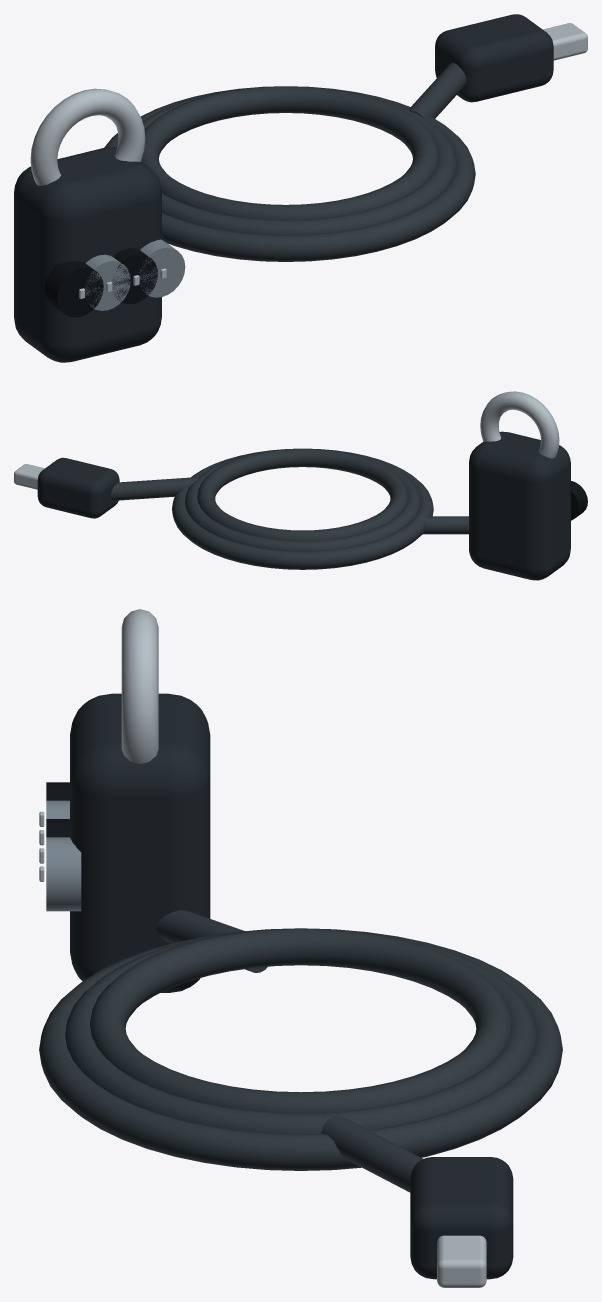
The model's file is security-cable-lock.glb.
3 renders of one model, top to bottom at view 1: azimuth 30°, elevation 25°; view 2: azimuth 150°, elevation 25°; view 3: azimuth 270°, elevation 25°, orthographic. The views are drawn at different scales.
Visible parts, largest first — view 1: Premium equipment security cable lock, Combination lock body, Combination dial (×4), Kensington lock head, Security slot blade; view 2: Premium equipment security cable lock, Combination lock body, Kensington lock head, Security slot blade, Combination dial; view 3: Premium equipment security cable lock, Combination lock body, Kensington lock head, Security slot blade, Combination dial.
Part boxes in pixels (x1=…): Premium equipment security cable lock: x1=30, y1=63, x2=475, y2=299; Combination lock body: x1=14, y1=147, x2=161, y2=362; Combination dial (×4): x1=44, y1=239, x2=185, y2=317; Kensington lock head: x1=435, y1=14, x2=553, y2=102; Security slot blade: x1=543, y1=23, x2=587, y2=60; Premium equipment security cable lock: x1=111, y1=391, x2=559, y2=569; Combination lock body: x1=469, y1=431, x2=570, y2=580; Kensington lock head: x1=37, y1=457, x2=119, y2=518; Security slot blade: x1=14, y1=464, x2=44, y2=489; Combination dial: x1=571, y1=481, x2=587, y2=520; Premium equipment security cable lock: x1=39, y1=609, x2=562, y2=1192; Combination lock body: x1=70, y1=693, x2=210, y2=992; Kensington lock head: x1=410, y1=1157, x2=513, y2=1279; Security slot blade: x1=437, y1=1235, x2=486, y2=1287; Combination dial: x1=46, y1=837, x2=81, y2=911.
Bounding box in the file's own units: 2.61 × 0.935 × 1.27.
